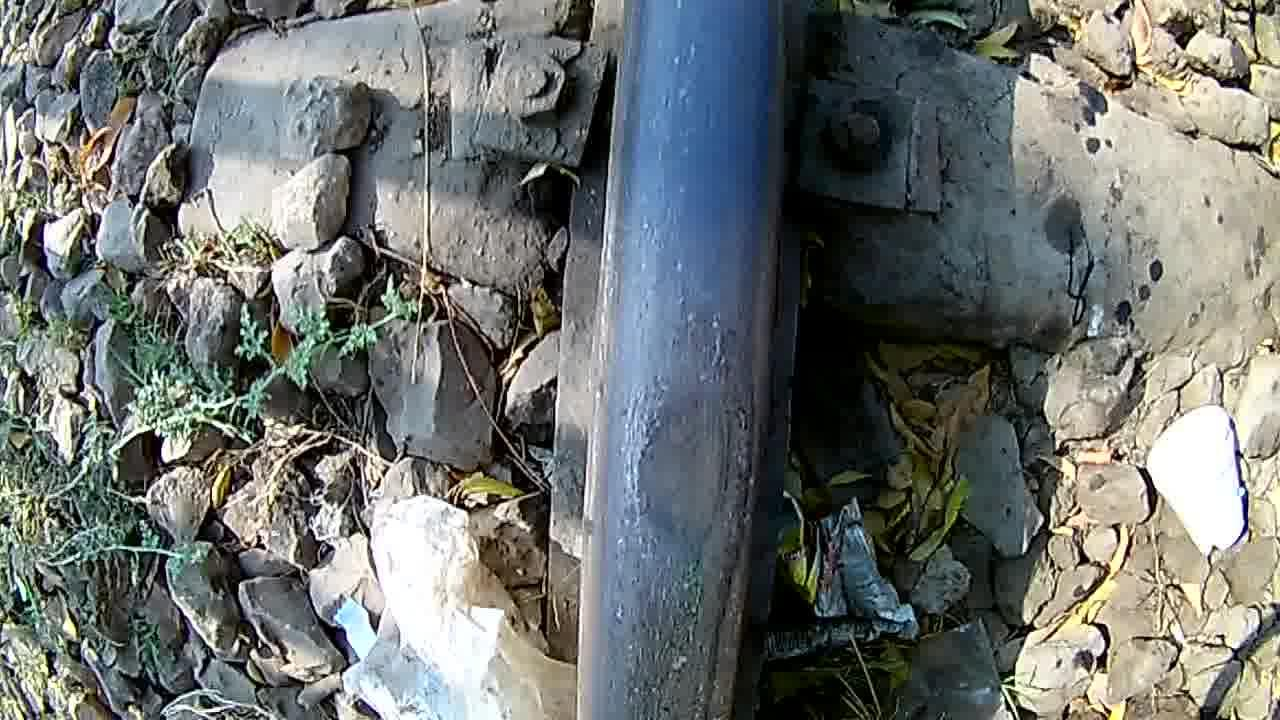bolt_missing: (597, 348, 764, 638)
